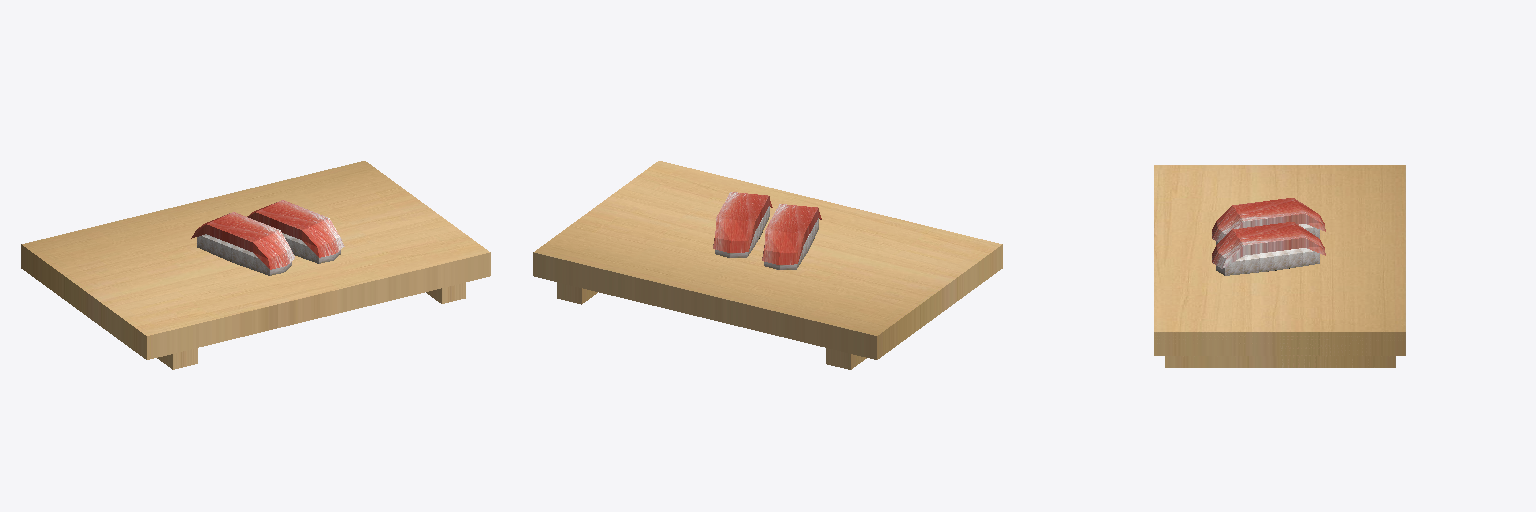
3 views of the same model, side by side, from view 1: azimuth 30°, elevation 25°; view 2: azimuth 150°, elevation 25°; view 3: azimuth 270°, elevation 25° (orthographic).
Size of the model in its own units: 7.51 by 1.56 by 4.75.
1 materials, 1 textured.